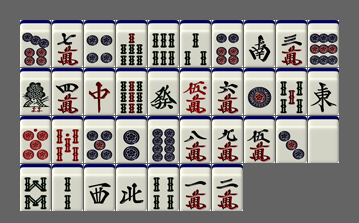0m: (180, 68, 211, 115)
0p: (20, 116, 51, 163)
0s: (52, 116, 83, 163)
1m: (180, 164, 211, 211)
1p: (244, 68, 275, 115)
1s: (20, 68, 51, 115)
1z: (308, 68, 339, 115)
2m: (212, 164, 243, 211)
2p: (116, 116, 147, 163)
2s: (52, 164, 83, 211)
2z: (244, 20, 275, 67)
3m: (276, 20, 307, 67)
3p: (276, 116, 307, 163)
3s: (180, 20, 211, 67)
3z: (84, 164, 115, 211)
4m: (52, 68, 83, 115)
4p: (84, 20, 115, 67)
4s: (148, 164, 179, 211)
4z: (116, 164, 147, 211)
5m: (244, 116, 275, 163)
5p: (84, 116, 115, 163)
5s: (276, 68, 307, 115)
5z: (308, 116, 339, 163)
6m: (212, 68, 243, 115)
6p: (212, 20, 243, 67)
6s: (148, 20, 179, 67)
6z: (148, 68, 179, 115)
7m: (52, 20, 83, 67)
7p: (20, 20, 51, 67)
7s: (116, 20, 147, 67)
7z: (84, 68, 115, 115)
8m: (180, 116, 211, 163)
8p: (148, 116, 179, 163)
8s: (20, 164, 51, 211)
9m: (212, 116, 243, 163)
9p: (308, 20, 339, 67)
9s: (116, 68, 147, 115)
